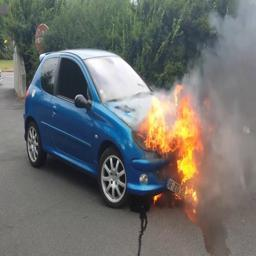fire: (137, 83, 203, 222)
